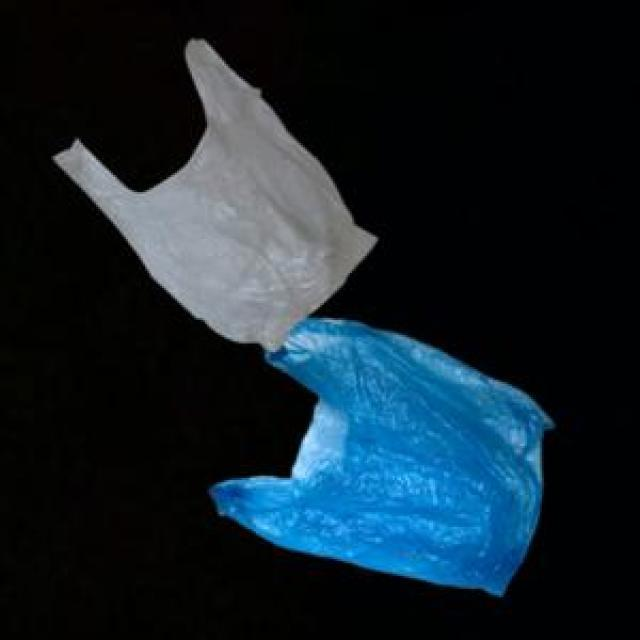waste: (55, 41, 549, 594)
